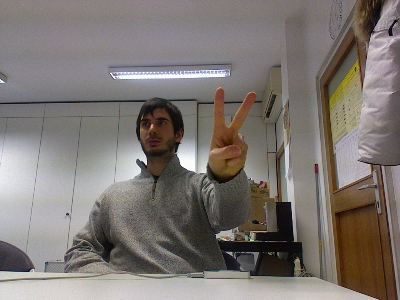剪刀: (206, 85, 257, 179)
